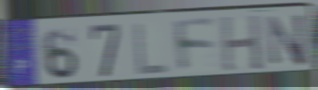6: (41, 26, 80, 80)
7: (89, 23, 121, 79)
F: (172, 17, 219, 75)
H: (219, 13, 265, 73)
L: (132, 20, 170, 78)
N: (265, 11, 309, 67)
